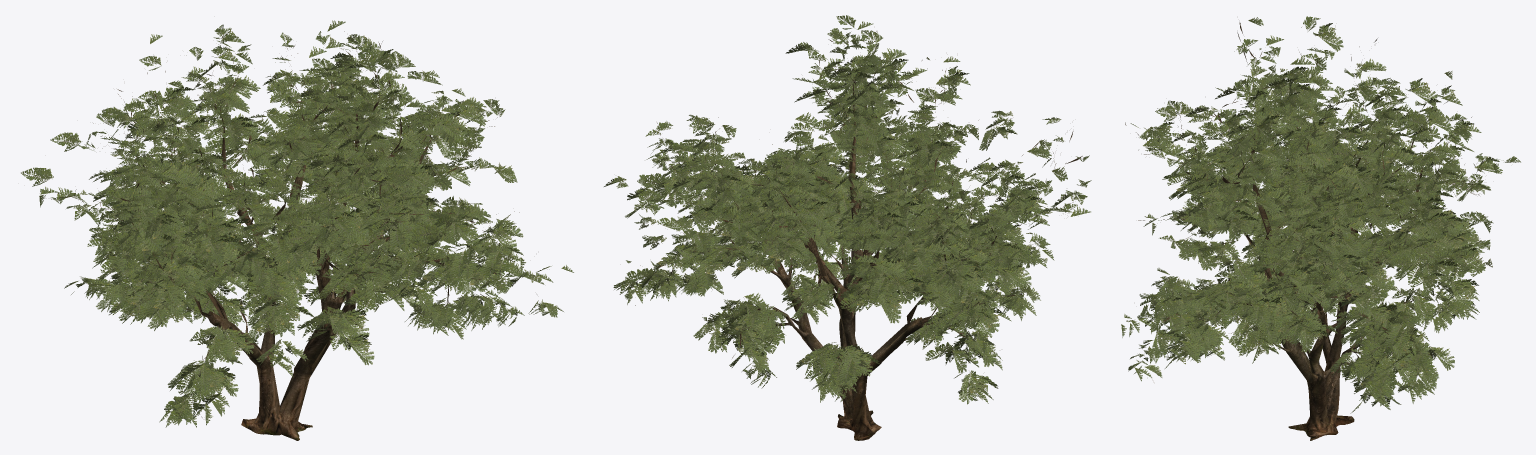
File: canopy-tree.glb
3 renders of one model, left to right at view 1: azimuth 30°, elevation 25°; view 2: azimuth 150°, elevation 25°; view 3: azimuth 270°, elevation 25°, orthographic. The views are drawn at different scales.
Parts seen in each view (by area): view 1: jacaranda_tree_LOD0; view 2: jacaranda_tree_LOD0; view 3: jacaranda_tree_LOD0.
Part boxes in pixels (x1,y1,x2,y2): jacaranda_tree_LOD0: (21,20,573,440); jacaranda_tree_LOD0: (604,15,1091,440); jacaranda_tree_LOD0: (1121,16,1520,440).
Bounding box in the file's own units: 23.57 × 19.37 × 18.45.
Materials: 3 (3 with a texture image).
